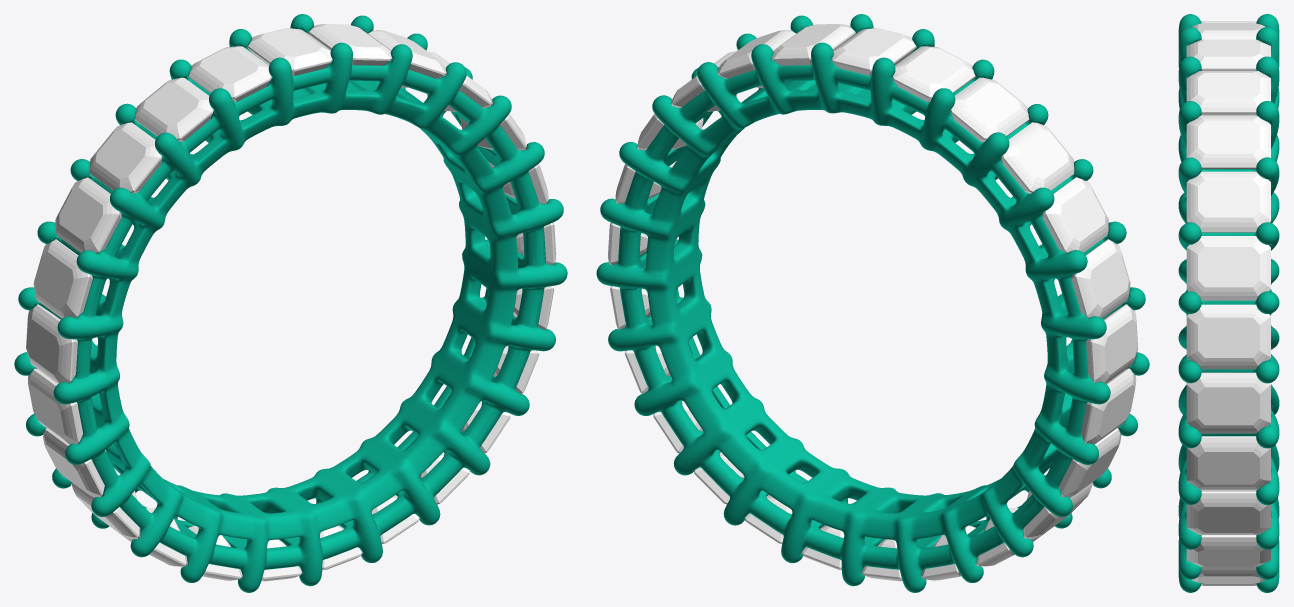
The model's file is BE2DRA300E_RENDER.glb.
The picture shows the model from 3 angles, left to right: view 1: azimuth 30°, elevation 25°; view 2: azimuth 150°, elevation 25°; view 3: azimuth 270°, elevation 25°; orthographic projection.
Parts seen in each view (by area): view 1: Metal03, Diamond_Emerald_Gem_BD.002, Diamond_Emerald_Gem_BD.003, Diamond_Emerald_Gem_BD.001, Diamond_Emerald_Gem_BD.004, Diamond_Emerald_Gem_BD.024, Diamond_Emerald_Gem_BD.005, Diamond_Emerald_Gem_BD, Diamond_Emerald_Gem_BD.006, Diamond_Emerald_Gem_BD.023, Diamond_Emerald_Gem_BD.007, Diamond_Emerald_Gem_BD.022 (+2 smaller); view 2: Metal03, Diamond_Emerald_Gem_BD.002, Diamond_Emerald_Gem_BD.003, Diamond_Emerald_Gem_BD.001, Diamond_Emerald_Gem_BD.004, Diamond_Emerald_Gem_BD.024, Diamond_Emerald_Gem_BD.005, Diamond_Emerald_Gem_BD, Diamond_Emerald_Gem_BD.006, Diamond_Emerald_Gem_BD.023, Diamond_Emerald_Gem_BD.007, Diamond_Emerald_Gem_BD.022 (+2 smaller); view 3: Metal03, Diamond_Emerald_Gem_BD.019, Diamond_Emerald_Gem_BD.020, Diamond_Emerald_Gem_BD.021, Diamond_Emerald_Gem_BD.018, Diamond_Emerald_Gem_BD.017, Diamond_Emerald_Gem_BD.022, Diamond_Emerald_Gem_BD.016, Diamond_Emerald_Gem_BD.023, Diamond_Emerald_Gem_BD.015, Diamond_Emerald_Gem_BD, Diamond_Emerald_Gem_BD.014 (+1 smaller).
Part boxes in pixels (x1,y1,x2,y2): Metal03: [14, 14, 567, 592]; Diamond_Emerald_Gem_BD.002: [90, 122, 162, 193]; Diamond_Emerald_Gem_BD.003: [55, 177, 121, 253]; Diamond_Emerald_Gem_BD.001: [135, 77, 213, 141]; Diamond_Emerald_Gem_BD.004: [33, 239, 92, 318]; Diamond_Emerald_Gem_BD.024: [188, 46, 271, 101]; Diamond_Emerald_Gem_BD.005: [26, 304, 77, 383]; Diamond_Emerald_Gem_BD: [247, 28, 332, 75]; Diamond_Emerald_Gem_BD.006: [28, 368, 83, 444]; Diamond_Emerald_Gem_BD.023: [308, 24, 392, 65]; Diamond_Emerald_Gem_BD.007: [43, 428, 105, 497]; Diamond_Emerald_Gem_BD.022: [368, 30, 446, 88]; Metal03: [596, 14, 1149, 592]; Diamond_Emerald_Gem_BD.002: [1001, 122, 1074, 193]; Diamond_Emerald_Gem_BD.003: [1042, 177, 1108, 253]; Diamond_Emerald_Gem_BD.001: [950, 77, 1029, 141]; Diamond_Emerald_Gem_BD.004: [1071, 239, 1130, 318]; Diamond_Emerald_Gem_BD.024: [892, 46, 975, 101]; Diamond_Emerald_Gem_BD.005: [1086, 304, 1138, 383]; Diamond_Emerald_Gem_BD: [831, 28, 916, 75]; Diamond_Emerald_Gem_BD.006: [1081, 368, 1136, 444]; Diamond_Emerald_Gem_BD.023: [771, 24, 855, 65]; Diamond_Emerald_Gem_BD.007: [1058, 428, 1121, 497]; Diamond_Emerald_Gem_BD.022: [717, 30, 796, 88]; Metal03: [1178, 14, 1279, 592]; Diamond_Emerald_Gem_BD.019: [1186, 304, 1270, 369]; Diamond_Emerald_Gem_BD.020: [1186, 236, 1270, 300]; Diamond_Emerald_Gem_BD.021: [1186, 171, 1270, 232]; Diamond_Emerald_Gem_BD.018: [1186, 372, 1270, 433]; Diamond_Emerald_Gem_BD.017: [1186, 436, 1270, 490]; Diamond_Emerald_Gem_BD.022: [1186, 115, 1270, 168]; Diamond_Emerald_Gem_BD.016: [1186, 490, 1270, 534]; Diamond_Emerald_Gem_BD.023: [1186, 71, 1270, 115]; Diamond_Emerald_Gem_BD.015: [1186, 535, 1270, 566]; Diamond_Emerald_Gem_BD: [1186, 39, 1270, 70]; Diamond_Emerald_Gem_BD.014: [1191, 566, 1265, 583].
Bounding box in the file's own units: 22.3 × 22.26 × 3.89.
